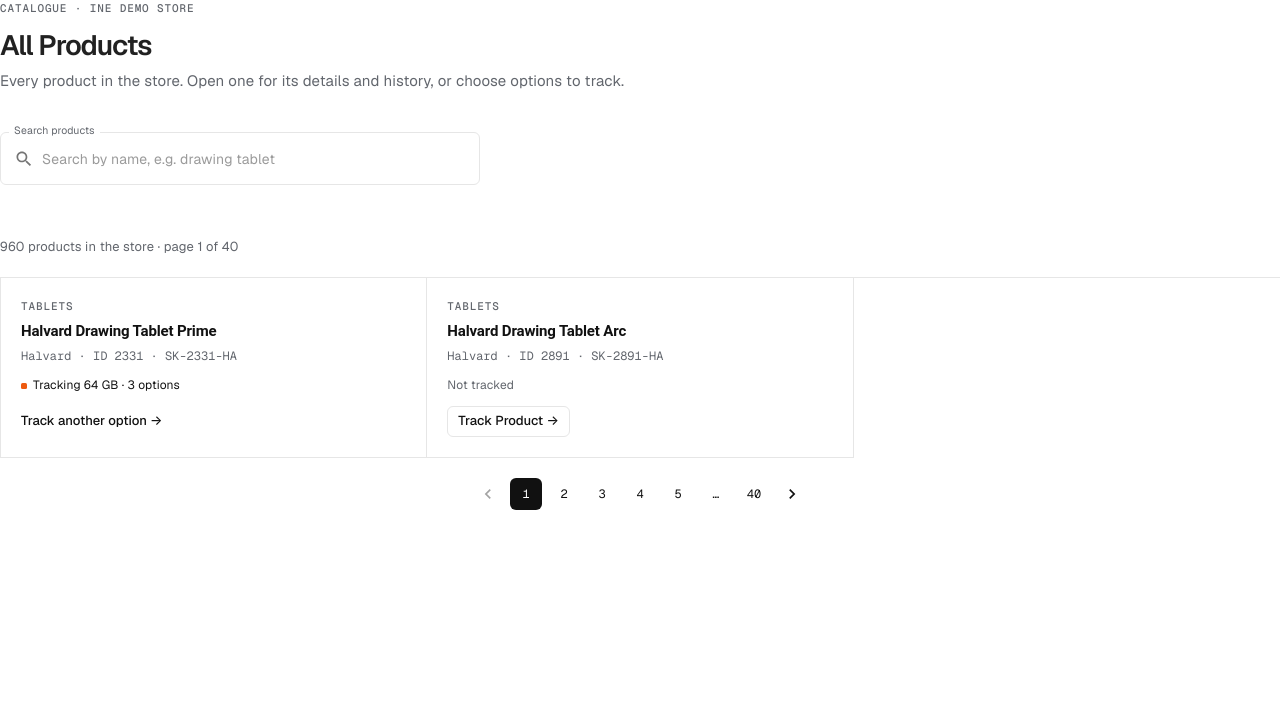
Test: All Products › opens the existing tracking dialog at the option step, nothing pre-selected, tracked options disabled
Click the button named "Track another option: Halvard Drawing Tablet Prime" at (92, 422), box [11,406,172,437]
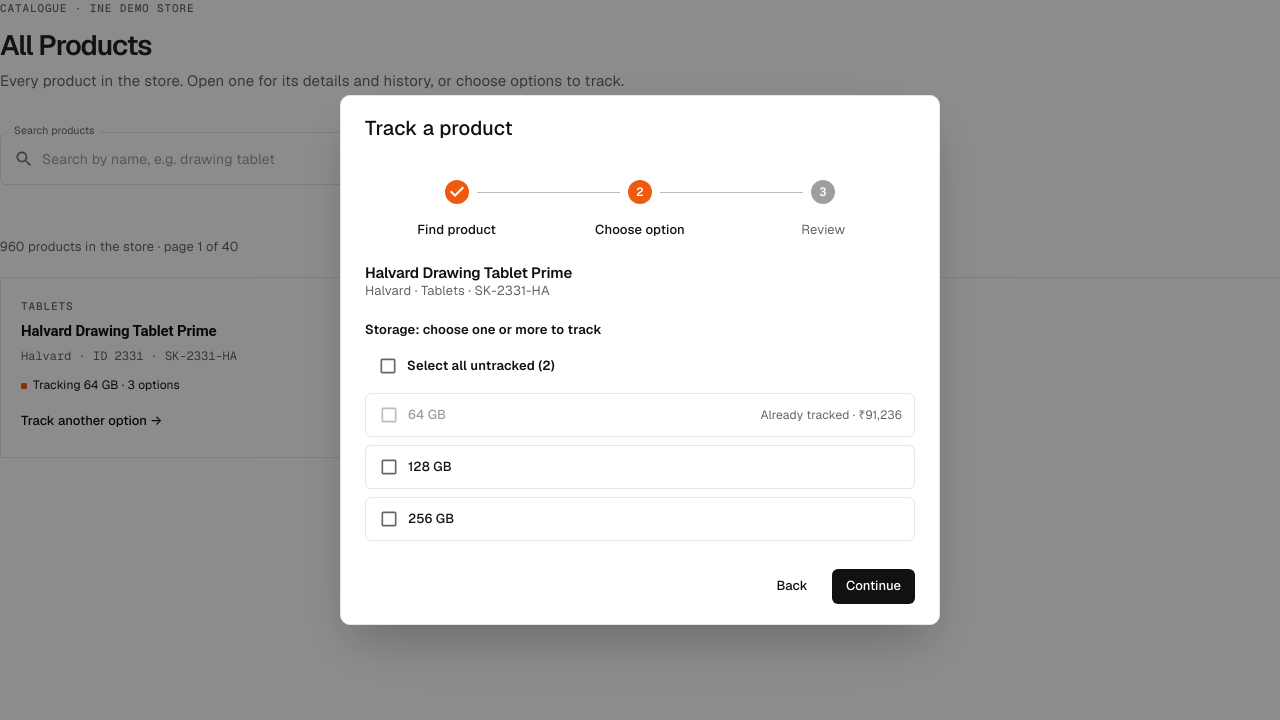
Check: the checkbox labelled "128 GB" is shown, box [365,445,915,489]
Check: the checkbox labelled "64 GB Already tracked · ₹91,236" is disabled, box [365,393,915,437]
